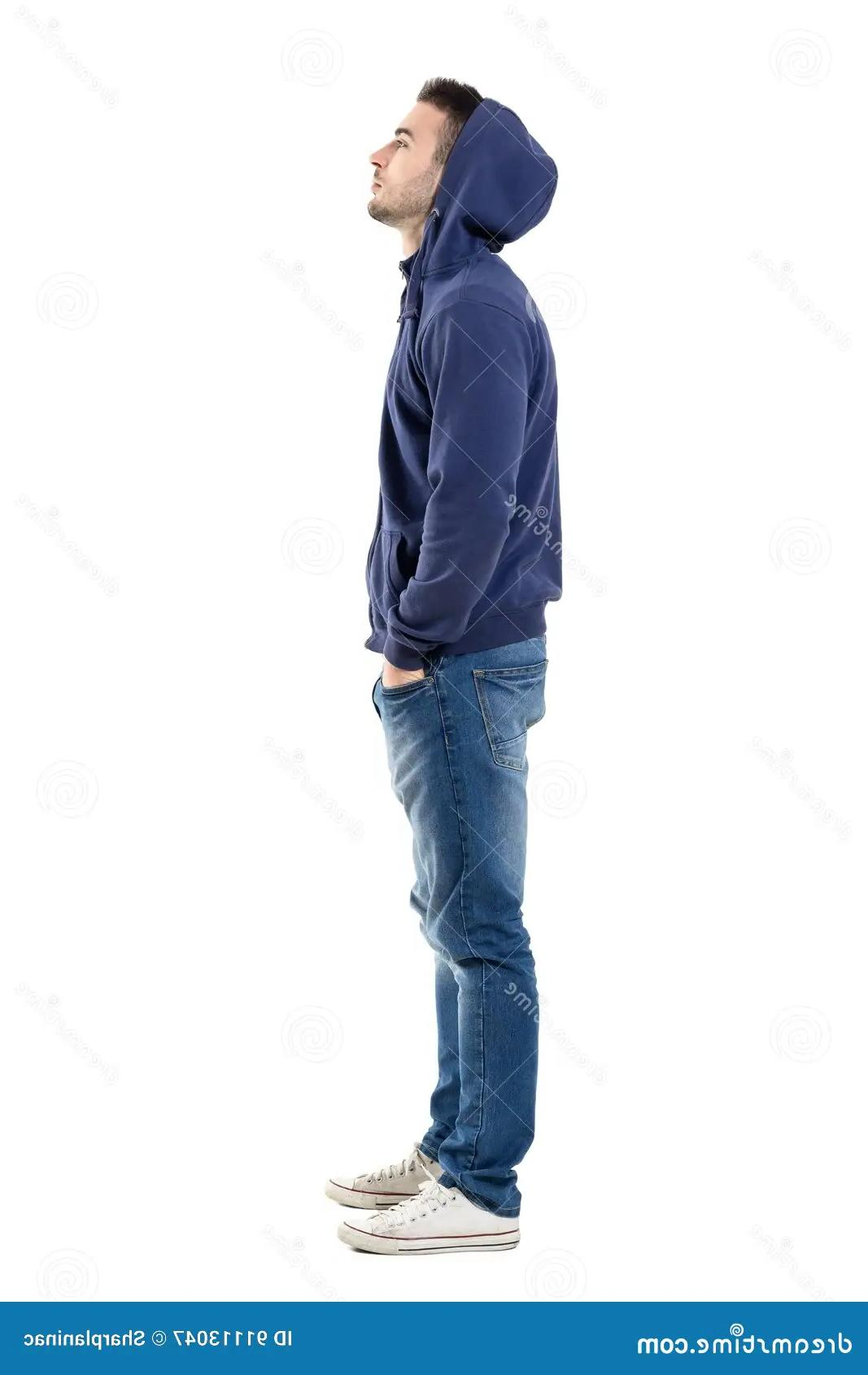sweater: (360, 95, 580, 674)
trousers: (366, 617, 554, 1216)
